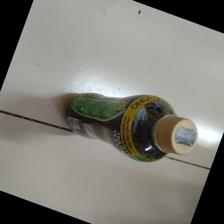Olong: (63, 91, 200, 164)
